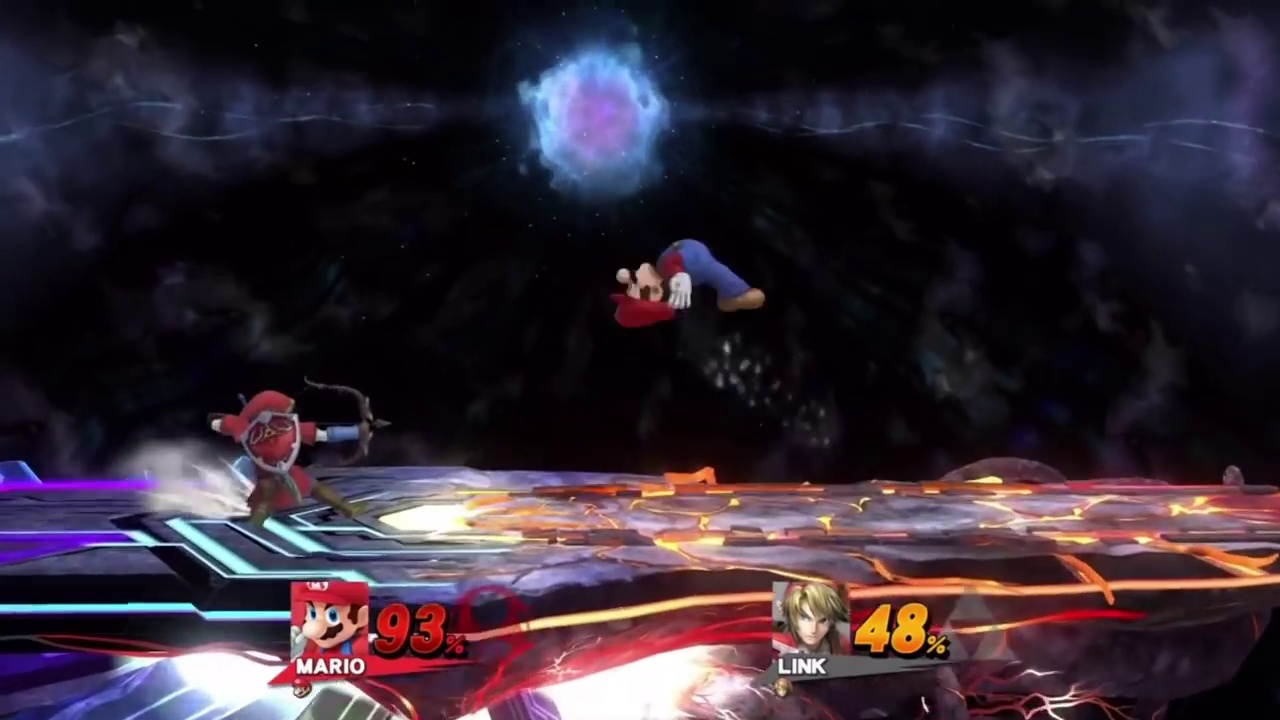Mario: (611, 235, 769, 329)
